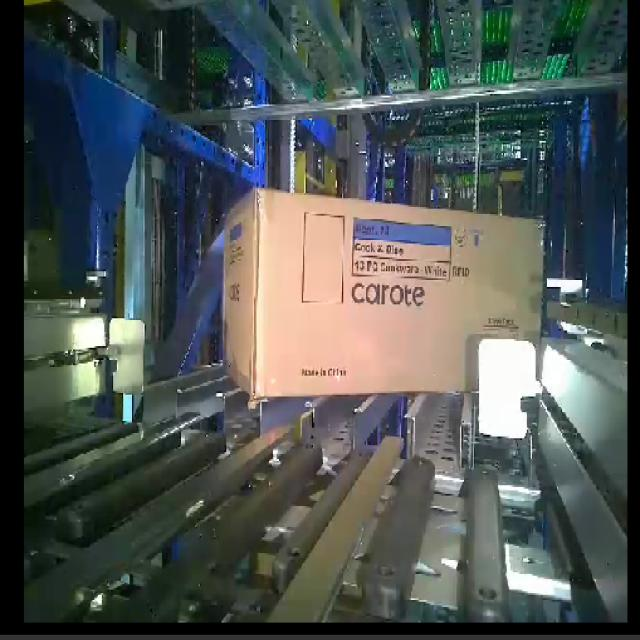box: (233, 155, 567, 435)
